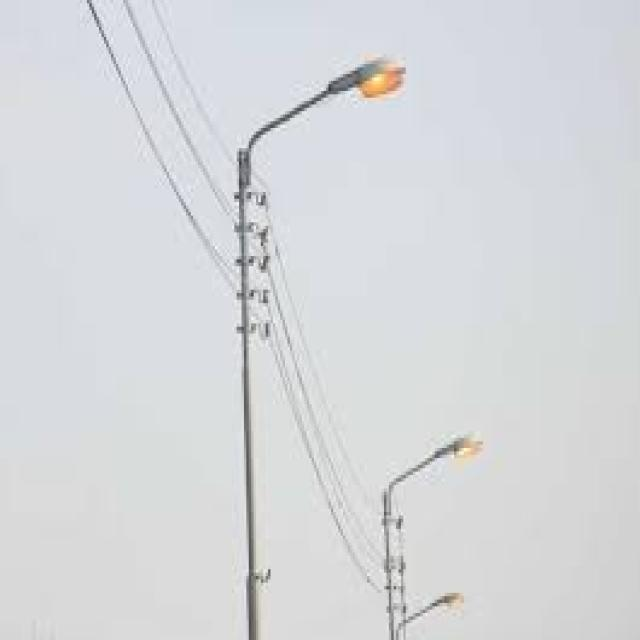Street Light: (237, 57, 408, 640), (379, 431, 483, 640), (394, 589, 466, 640)
